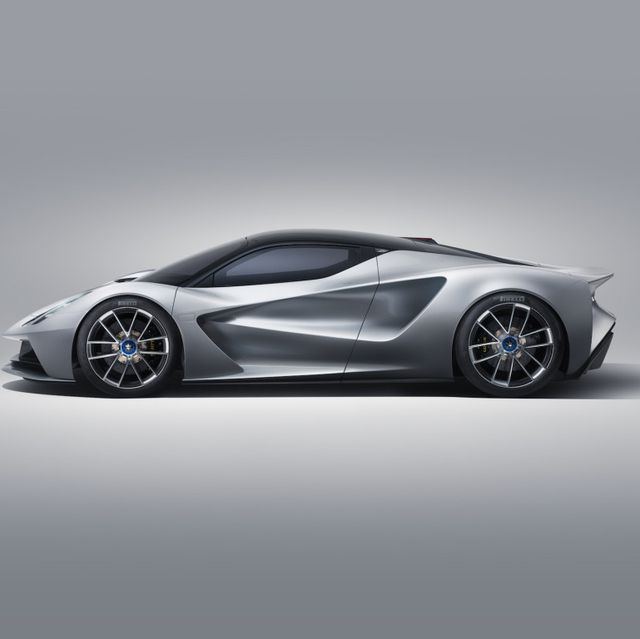car: (5, 227, 618, 409)
